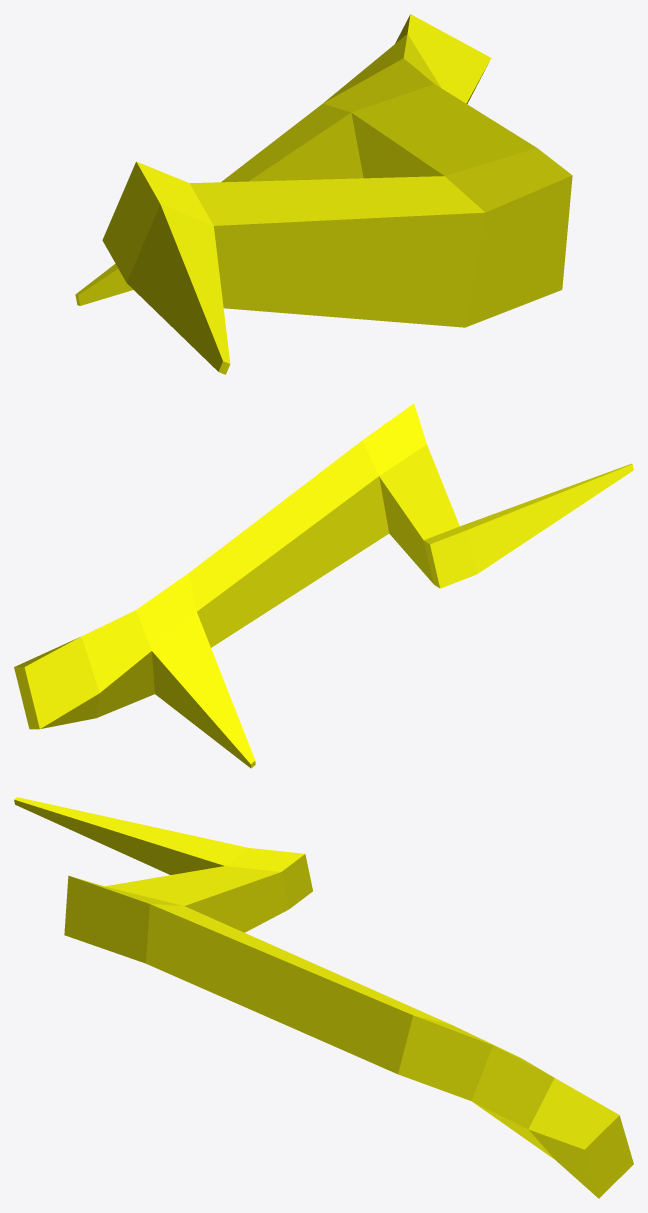
The model's file is Lightning_Bolt_Left.glb.
The picture shows the model from 3 angles, top to bottom: view 1: azimuth 30°, elevation 25°; view 2: azimuth 150°, elevation 25°; view 3: azimuth 270°, elevation 25°; orthographic projection. The views are drawn at different scales.
Parts seen in each view (by area): view 1: Lightening_Bolt.003; view 2: Lightening_Bolt.003; view 3: Lightening_Bolt.003.
Part boxes in pixels (<box>): Lightening_Bolt.003: <box>75,14,572,374</box>; Lightening_Bolt.003: <box>14,403,633,768</box>; Lightening_Bolt.003: <box>14,797,633,1198</box>.
Size of the model in its own units: 0.0347 by 0.018 by 0.0421.
